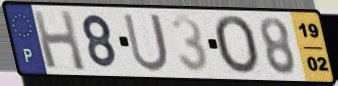3: (171, 12, 209, 76)
8: (258, 16, 298, 77), (81, 12, 119, 71)
H: (30, 8, 88, 73)
O: (211, 14, 262, 77)
U: (121, 12, 172, 75)
